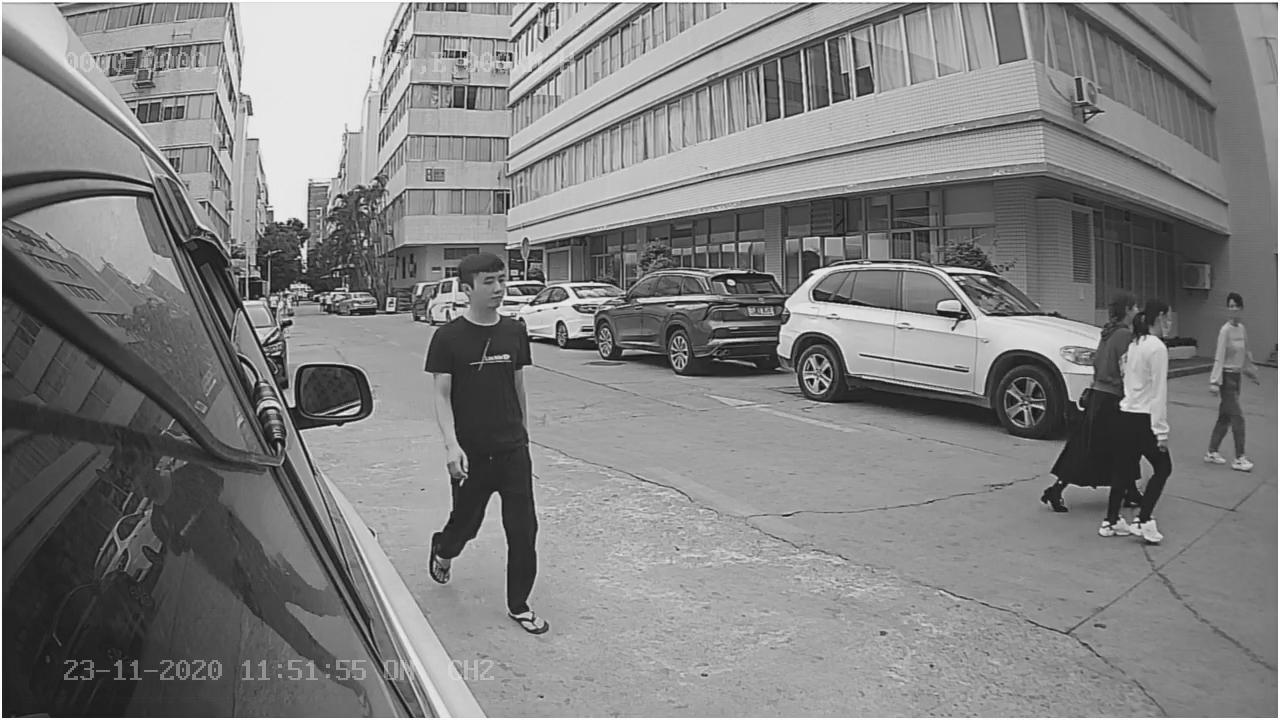person: (419, 256, 570, 645), (1096, 296, 1172, 548), (1203, 284, 1262, 472)
